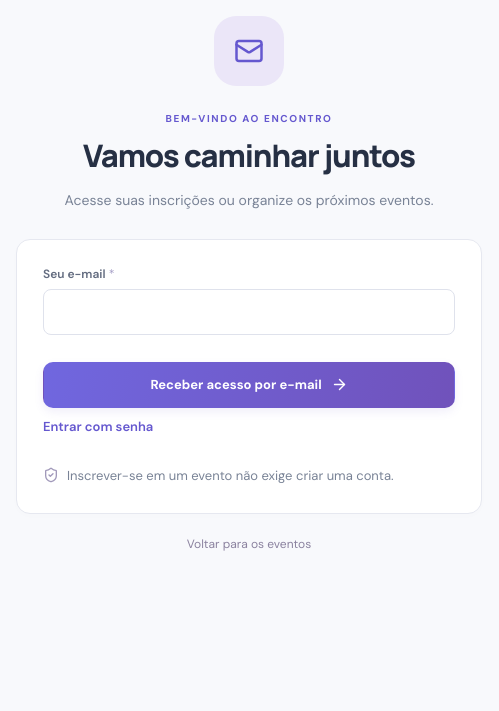
Test: Limites de envio no login › explica e limita também a recuperação de senha quando o provedor responde 429
In the field labelled "Seu e-mail *": (249, 312) [43,288,455,334], type "teste@example.com"
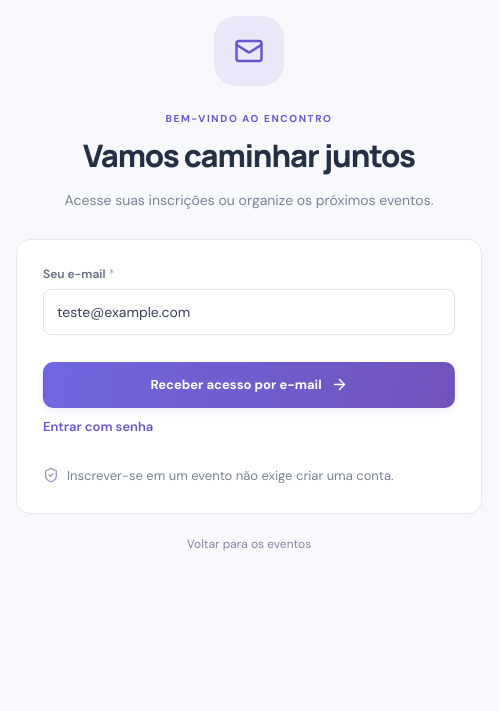
Click the button "Entrar com senha": (98, 426) [43,408,153,444]
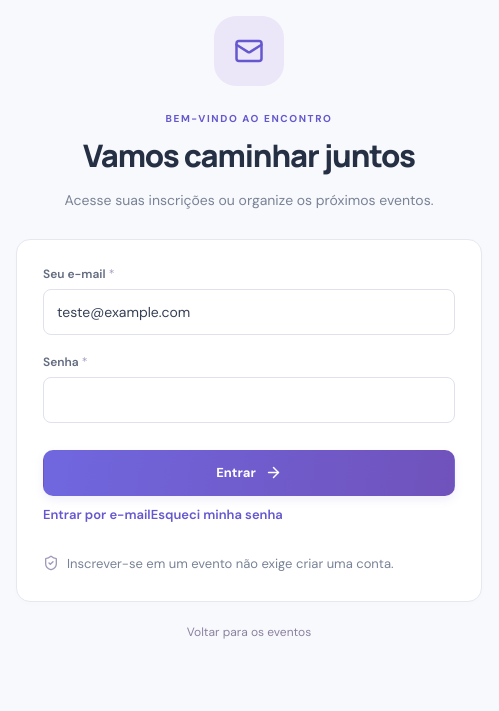
Click the button "Esqueci minha senha": (217, 514) [151,496,283,532]
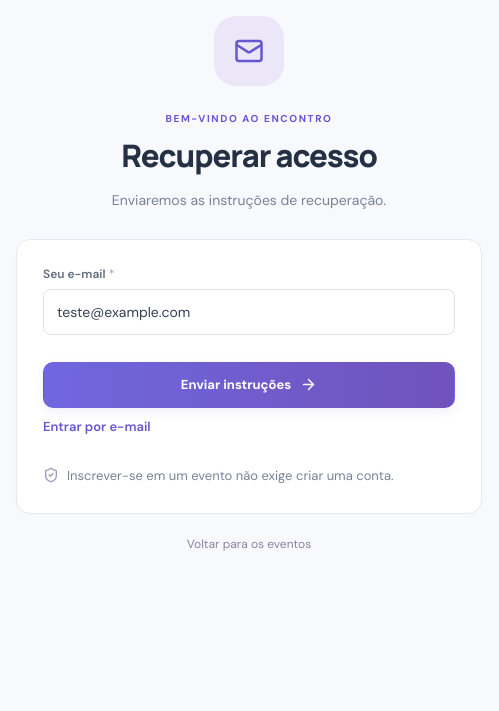
Click the button "Enviar instruções": (249, 384) [43,362,455,408]
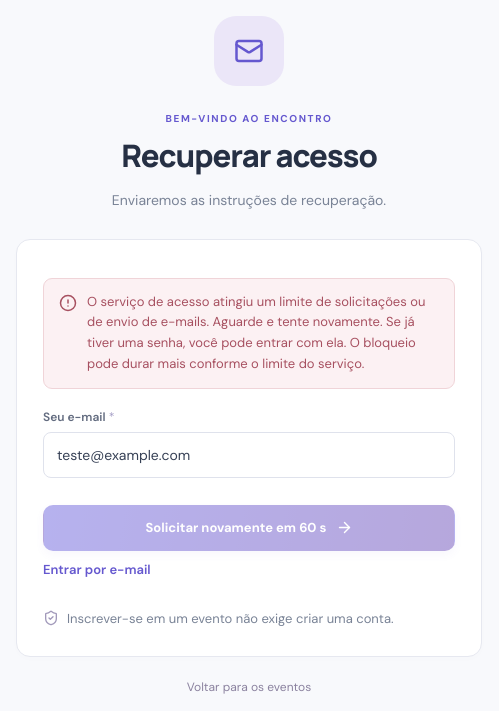
Result: the text "atingiu um limite de solicitações" is shown at [87,292,425,372]
Result: the button "Solicitar novamente em 60 s" is disabled at [43,505,455,551]
